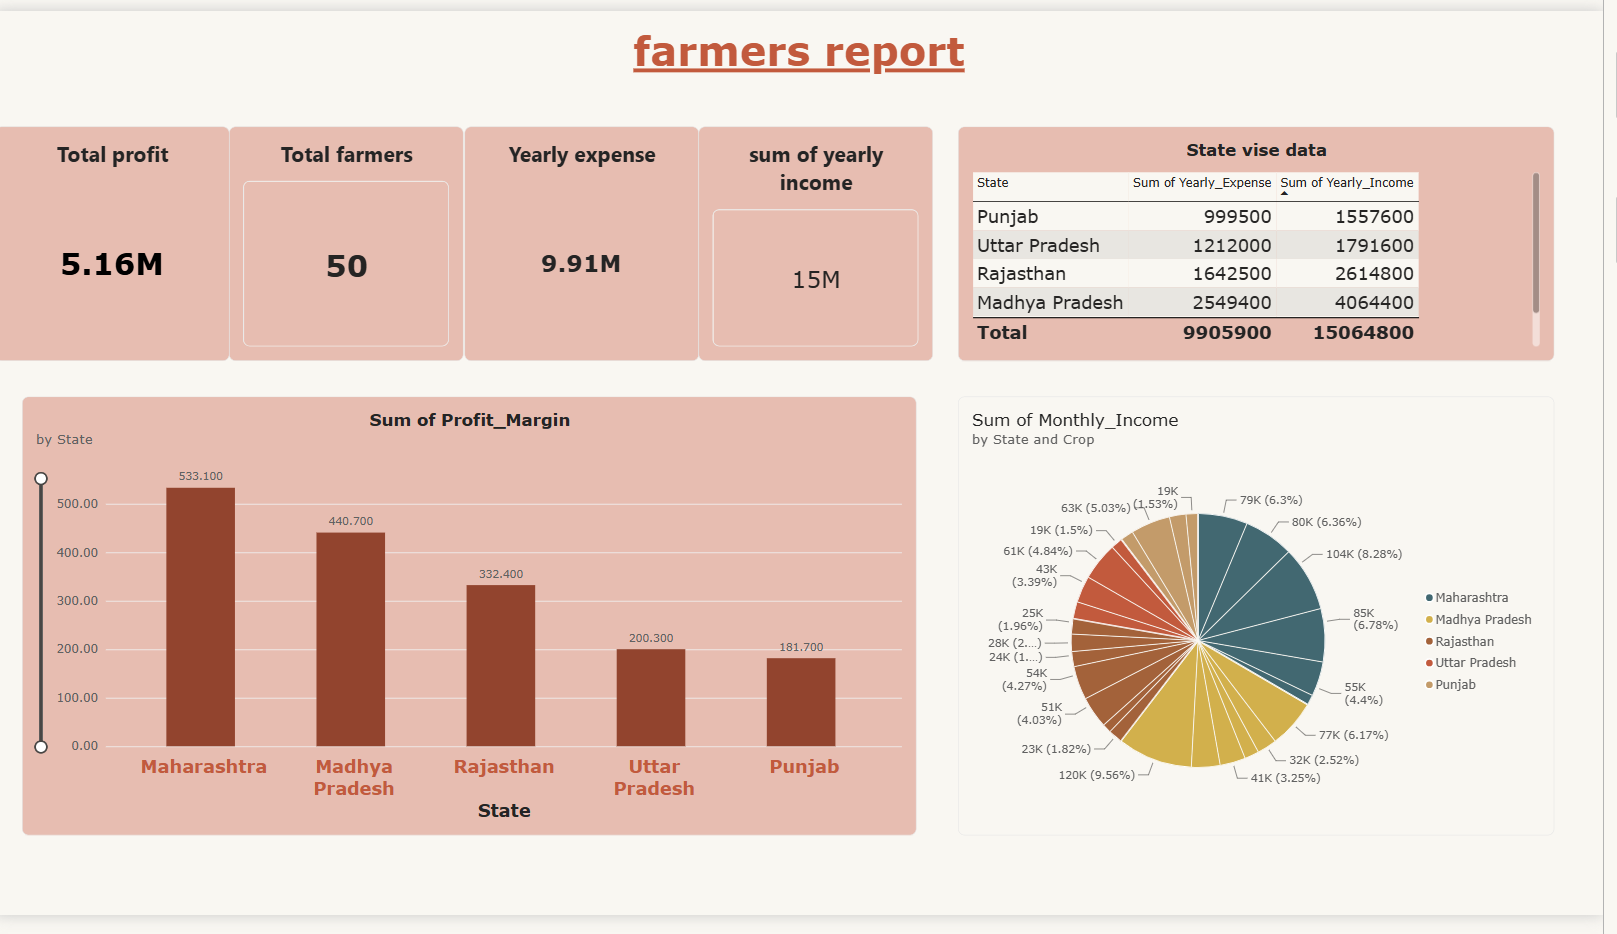

The page's visual inventory and layout, read from the dashboard file:
{"tool":"powerbi","page":{"name":"Page 1","canvas":[1920,1080],"ordinal":0},"visuals":[{"type":"card","title":"Total profit","fields":{"Values":["Sum(farmers_clean.Profit)"]},"box":[0,138,280,280],"z":0},{"type":"textbox","box":[31,417,280,280],"z":1000},{"type":"textbox","box":[0,18,1920,66],"z":2000},{"type":"cardVisual","title":"Total farmers","fields":{"Data":["Count(farmers_clean.Farmer_ID)"]},"box":[280,138,280,280],"z":3000},{"type":"card","title":"Yearly expense ","fields":{"Values":["Sum(farmers_clean.Yearly_Expense)"]},"box":[560,138,280,280],"z":4000},{"type":"cardVisual","title":"sum of yearly income","fields":{"Data":["Sum(farmers_clean.Yearly_Income)"]},"box":[840,138,280,280],"z":5000},{"type":"columnChart","fields":{"Category":["farmers_clean.State"],"Y":["Sum(farmers_clean.Profit_Margin)"]},"box":[32,460,1068,524],"z":6000},{"type":"tableEx","title":"State vise data","fields":{"Values":["farmers_clean.State","Sum(farmers_clean.Yearly_Expense)","Sum(farmers_clean.Yearly_Income)"]},"box":[1150,138,712,280],"z":6001},{"type":"pieChart","fields":{"Category":["farmers_clean.State"],"Series":["farmers_clean.Crop"],"Y":["Sum(farmers_clean.Monthly_Income)"]},"box":[1150,460,712,524],"z":6002}]}

Visuals, with their boxes in screenshot pixels (x1, y1, x2, y2), scaled from the page's 1920x1080 canvas onto the 1617x934 screenshot:
"Total profit" card: Rect(0, 119, 236, 361)
textbox: Rect(26, 361, 262, 603)
textbox: Rect(0, 16, 1616, 73)
"Total farmers" cardVisual: Rect(236, 119, 472, 361)
"Yearly expense " card: Rect(472, 119, 707, 361)
"sum of yearly income" cardVisual: Rect(707, 119, 943, 361)
columnChart - farmers_clean.State x Sum(farmers_clean.Profit_Margin): Rect(27, 398, 926, 851)
"State vise data" tableEx: Rect(969, 119, 1568, 361)
pieChart - farmers_clean.State x farmers_clean.Crop: Rect(969, 398, 1568, 851)
